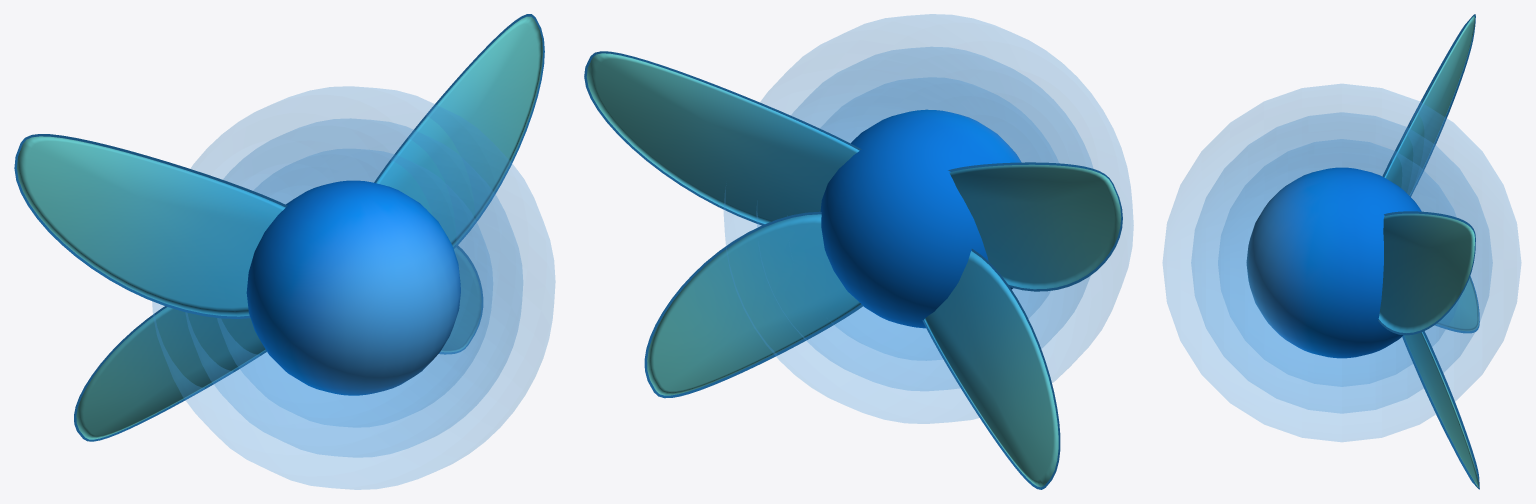
Rendered from fairy-blue.glb.
3 renders of one model, left to right at view 1: azimuth 30°, elevation 25°; view 2: azimuth 150°, elevation 25°; view 3: azimuth 270°, elevation 25°, orthographic. The views are drawn at different scales.
Parts seen in each view (by area): view 1: fairy-blue; view 2: fairy-blue; view 3: fairy-blue.
Boxes of the visible parts, <box> form: fairy-blue: <box>14,14,555,489</box>; fairy-blue: <box>584,14,1133,489</box>; fairy-blue: <box>1162,14,1521,489</box>.
Bounding box in the file's own units: 0.2838 × 0.188 × 0.188.
